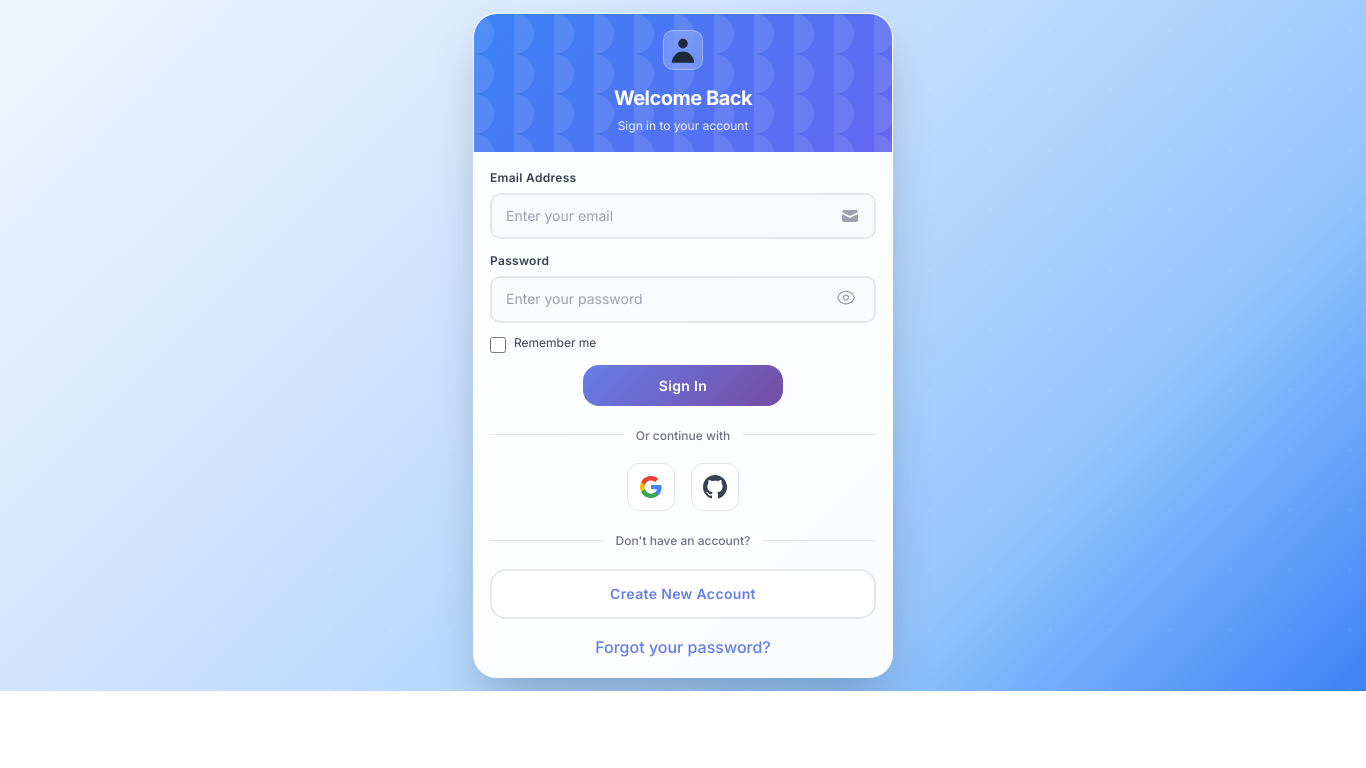
Scenario: SignIn Component › displays error message on failed login
In the field labelled "Email Address": [683, 216] box [490,193,876,239], type "test@example.com"
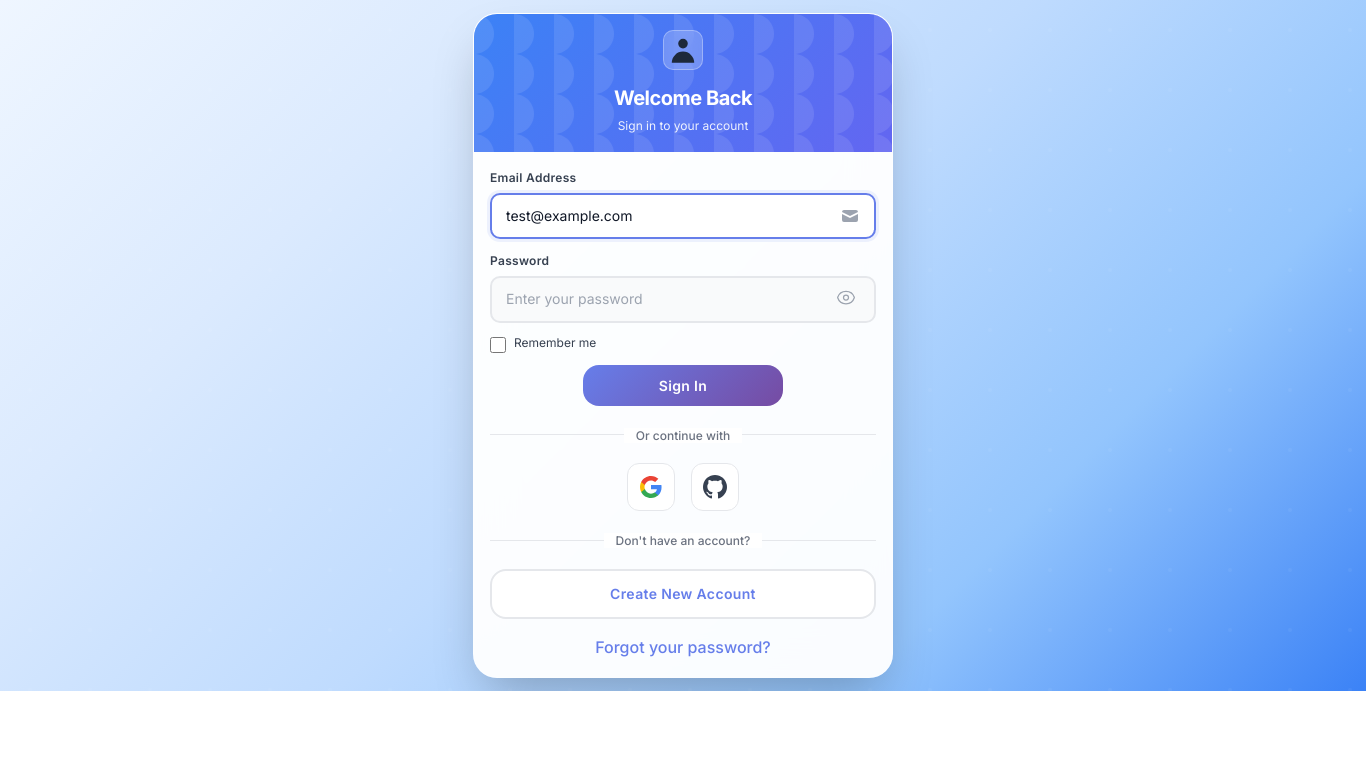
In the password field with placeholder "Enter your password": [683, 300] box [490,276,876,323], type "wrongpassword"
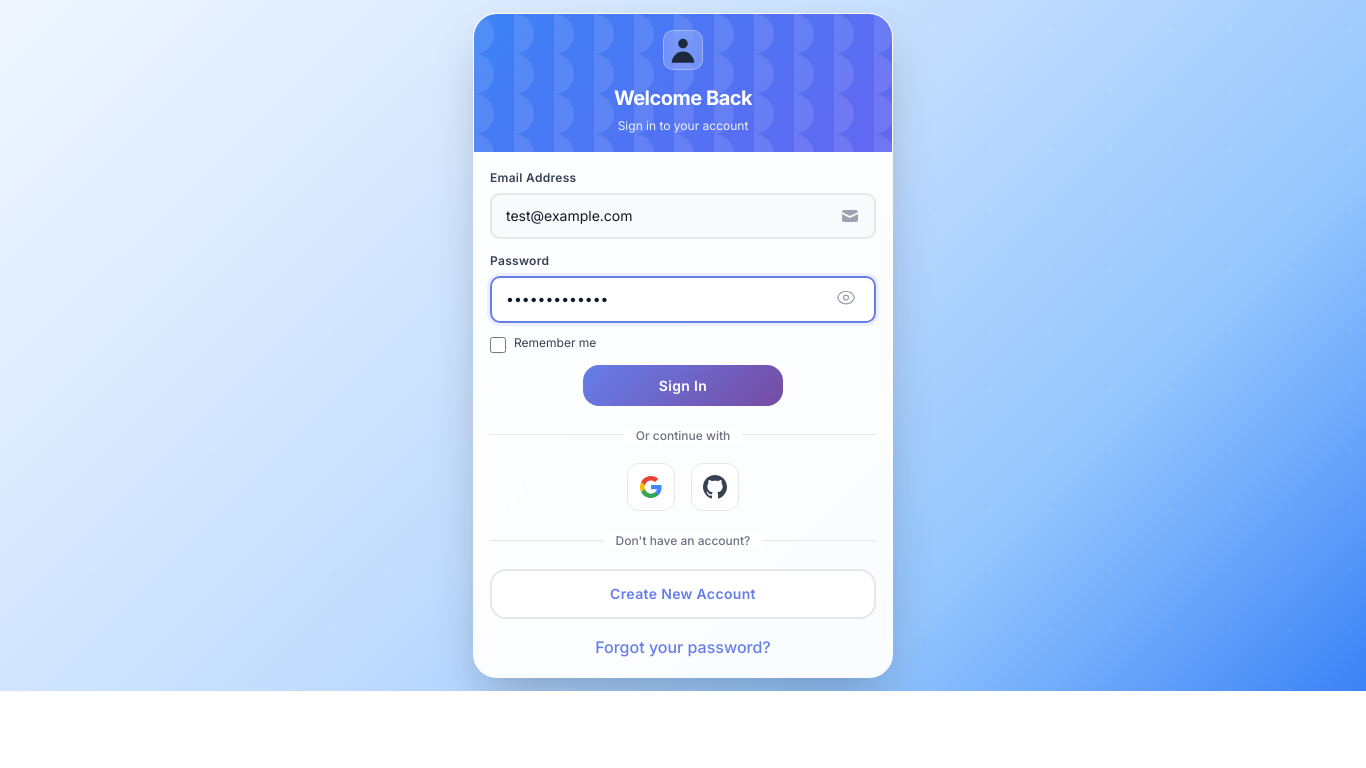
Click the button "Sign In": [683, 385] box [583,365,783,406]
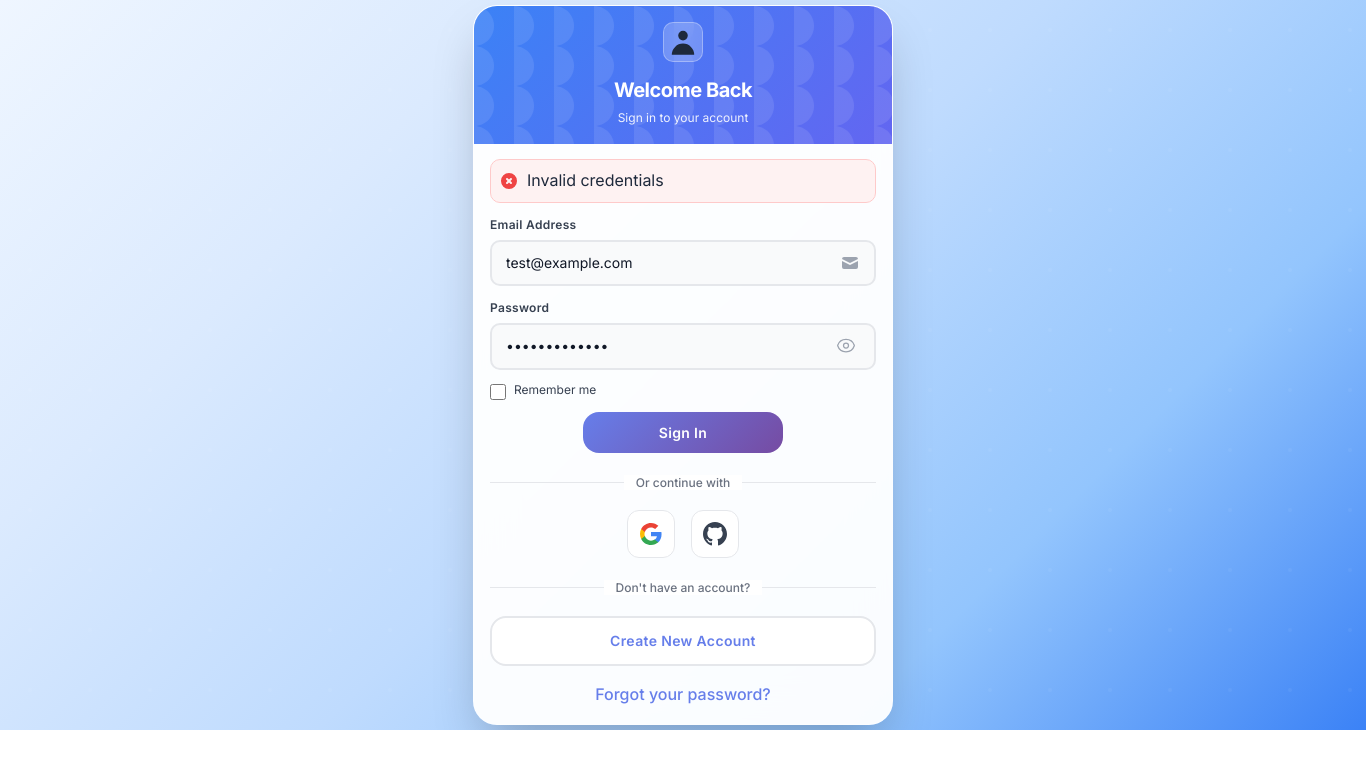
Result: the text "Invalid credentials" is shown at [527,168,664,194]
